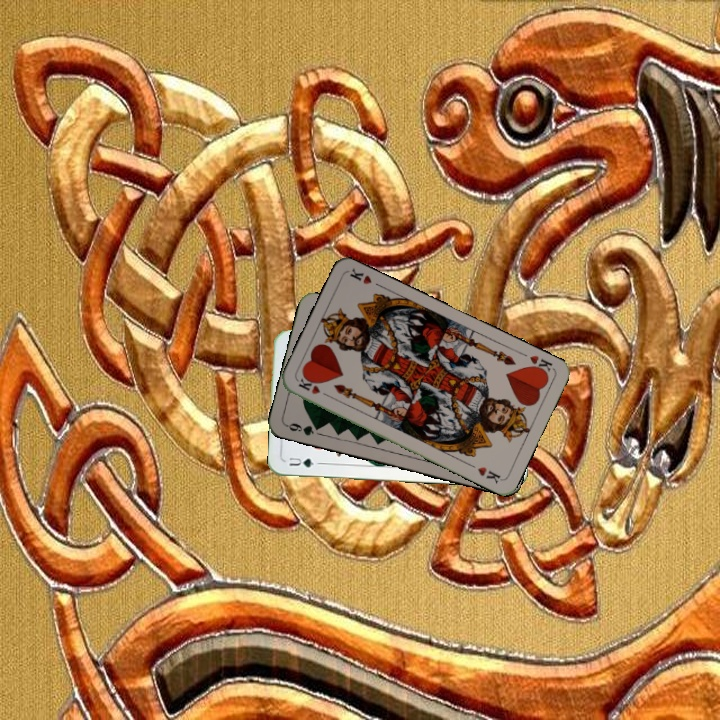G9: (283, 419, 324, 438)
GU: (284, 453, 316, 470)
HK: (294, 374, 333, 400), (525, 351, 556, 378)
